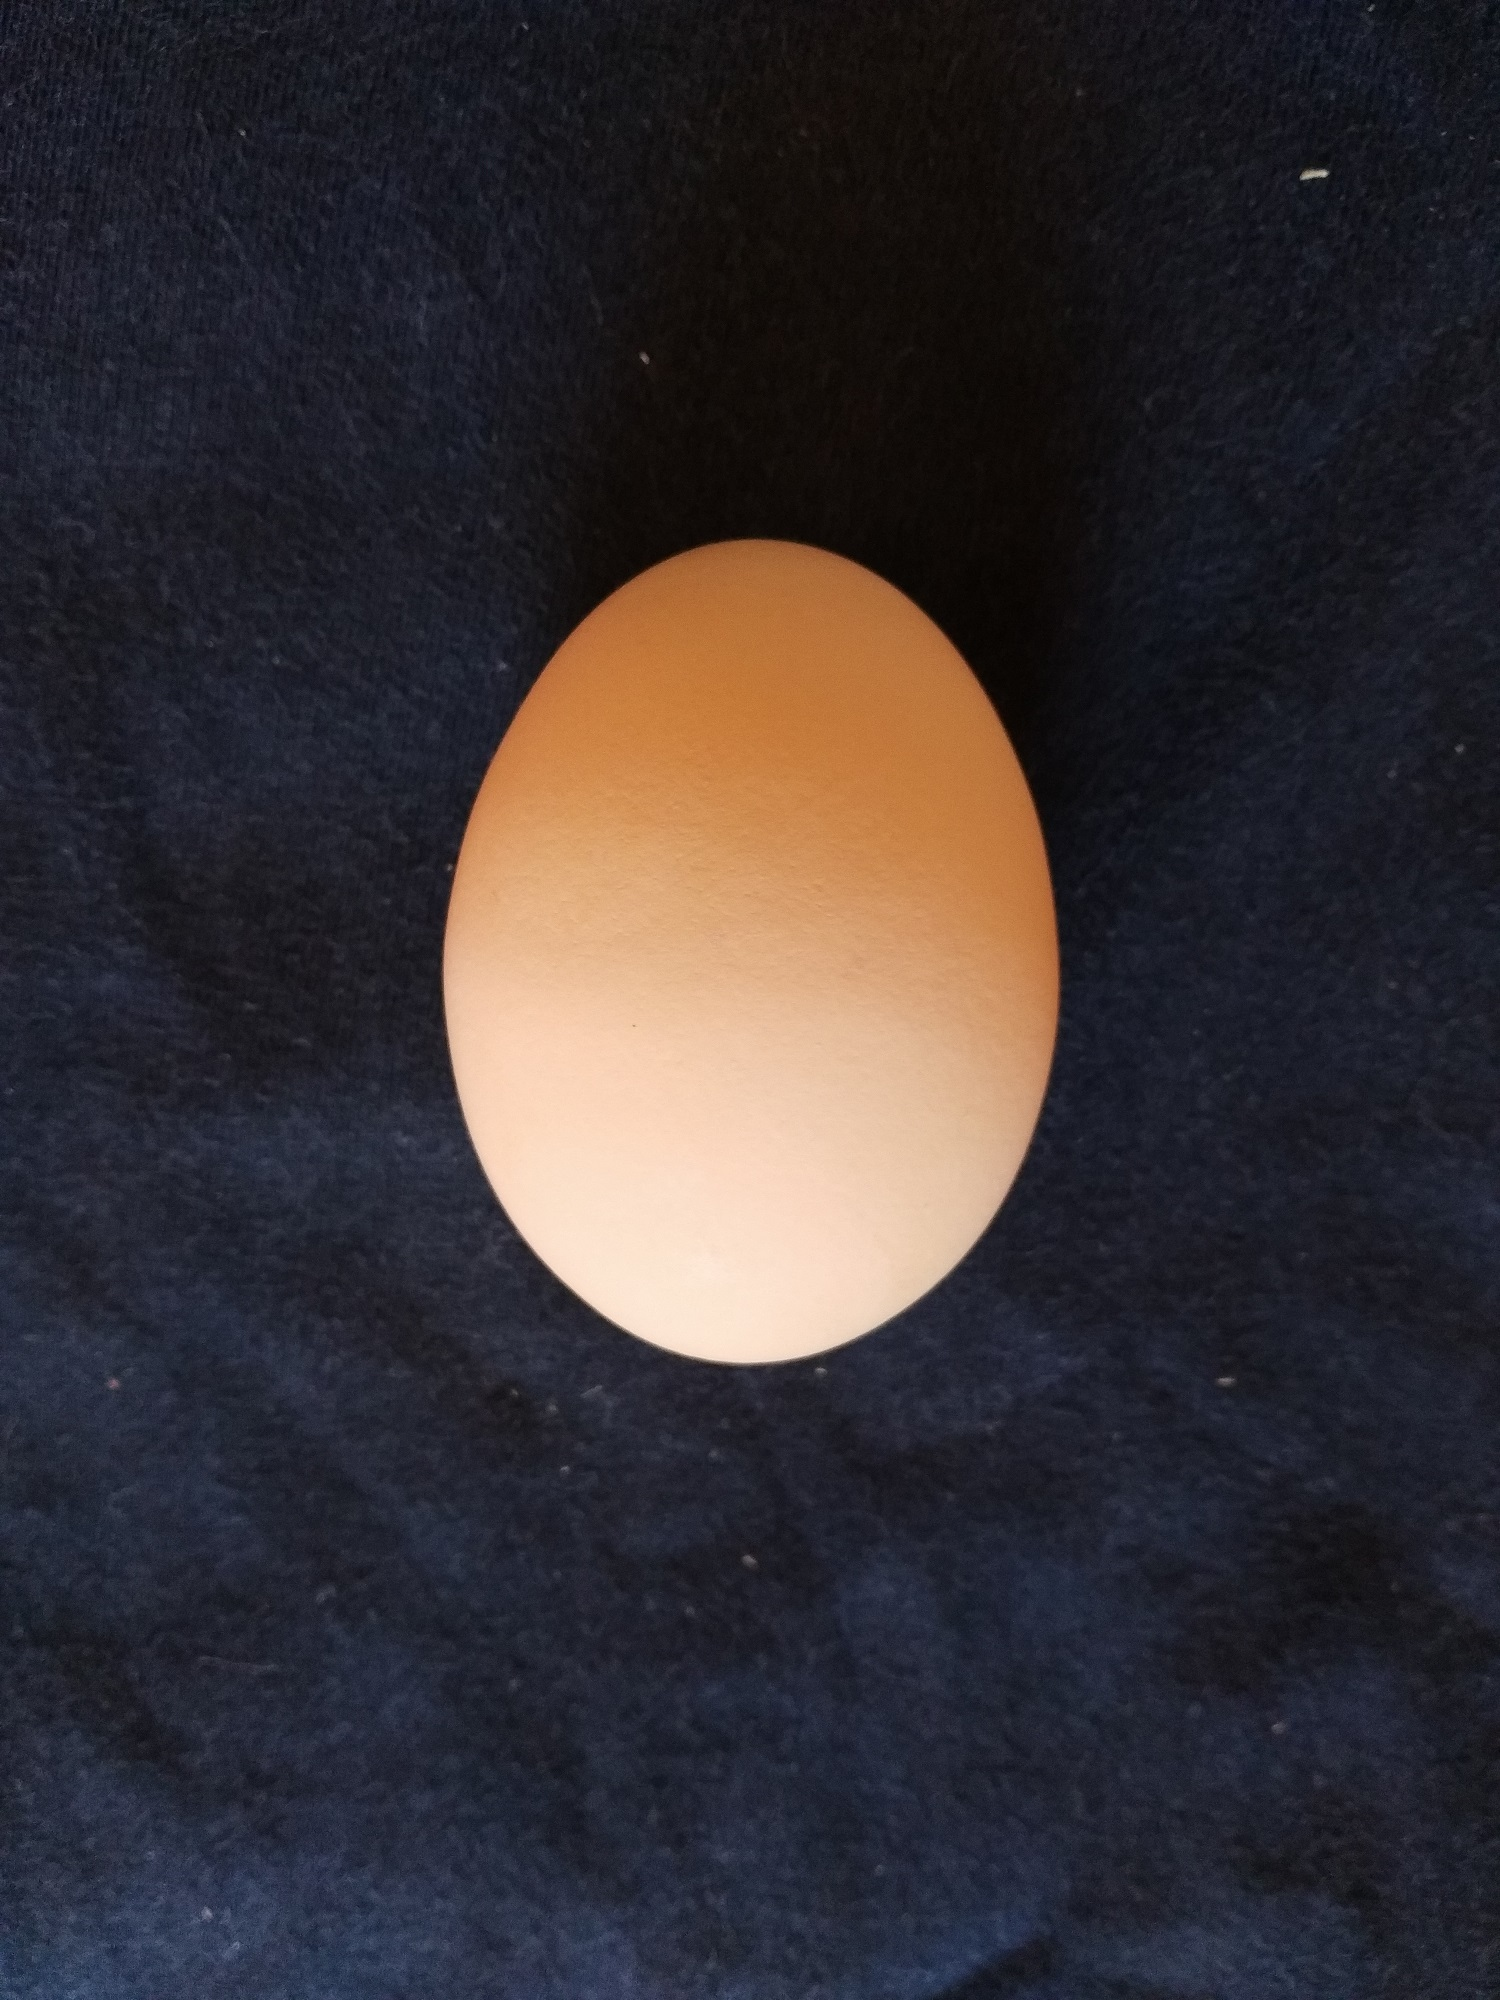Female: (440, 531, 1064, 1376)
